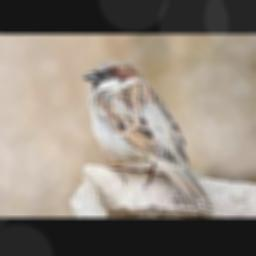Sparrow: (81, 59, 212, 209)
